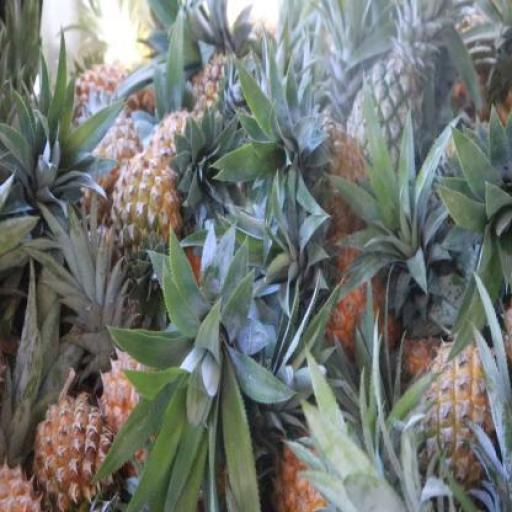------------------------------: (416, 342, 500, 494), (111, 148, 178, 282)
Pineapple - v8 v1: (36, 394, 112, 512)
